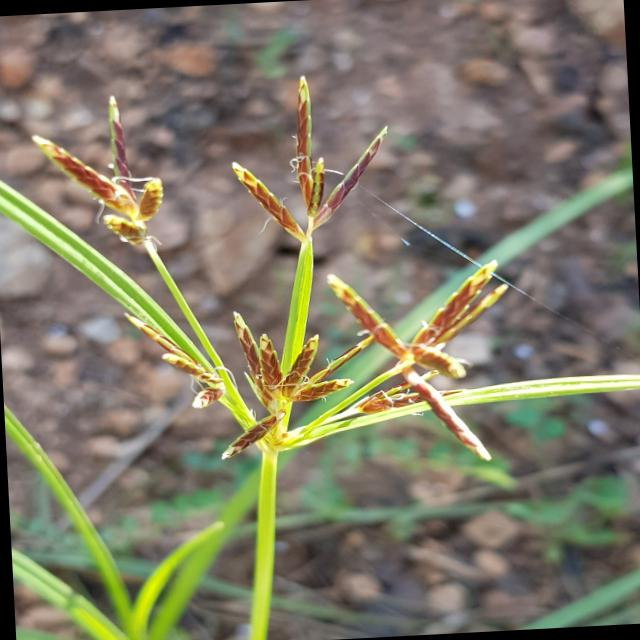cyperus: (22, 62, 540, 494)
